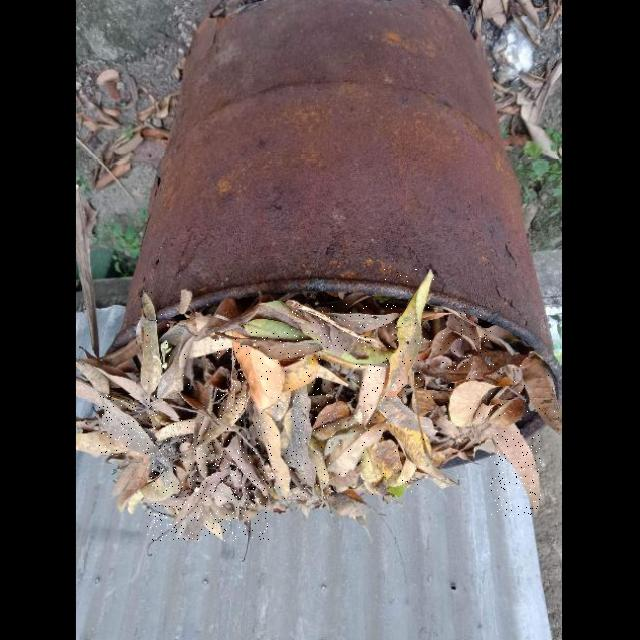biowaste: (147, 441, 269, 541), (383, 269, 434, 399), (290, 301, 401, 352), (281, 384, 330, 499), (417, 306, 495, 369), (490, 422, 541, 517), (386, 423, 459, 488), (449, 369, 525, 428), (233, 340, 284, 411), (253, 405, 291, 500), (100, 394, 158, 455), (325, 420, 387, 476), (521, 350, 561, 435), (359, 437, 415, 496), (215, 332, 323, 360), (136, 289, 162, 405), (157, 328, 196, 400), (166, 422, 229, 457), (354, 364, 387, 426), (218, 379, 247, 426), (283, 355, 318, 392), (156, 418, 196, 440)
